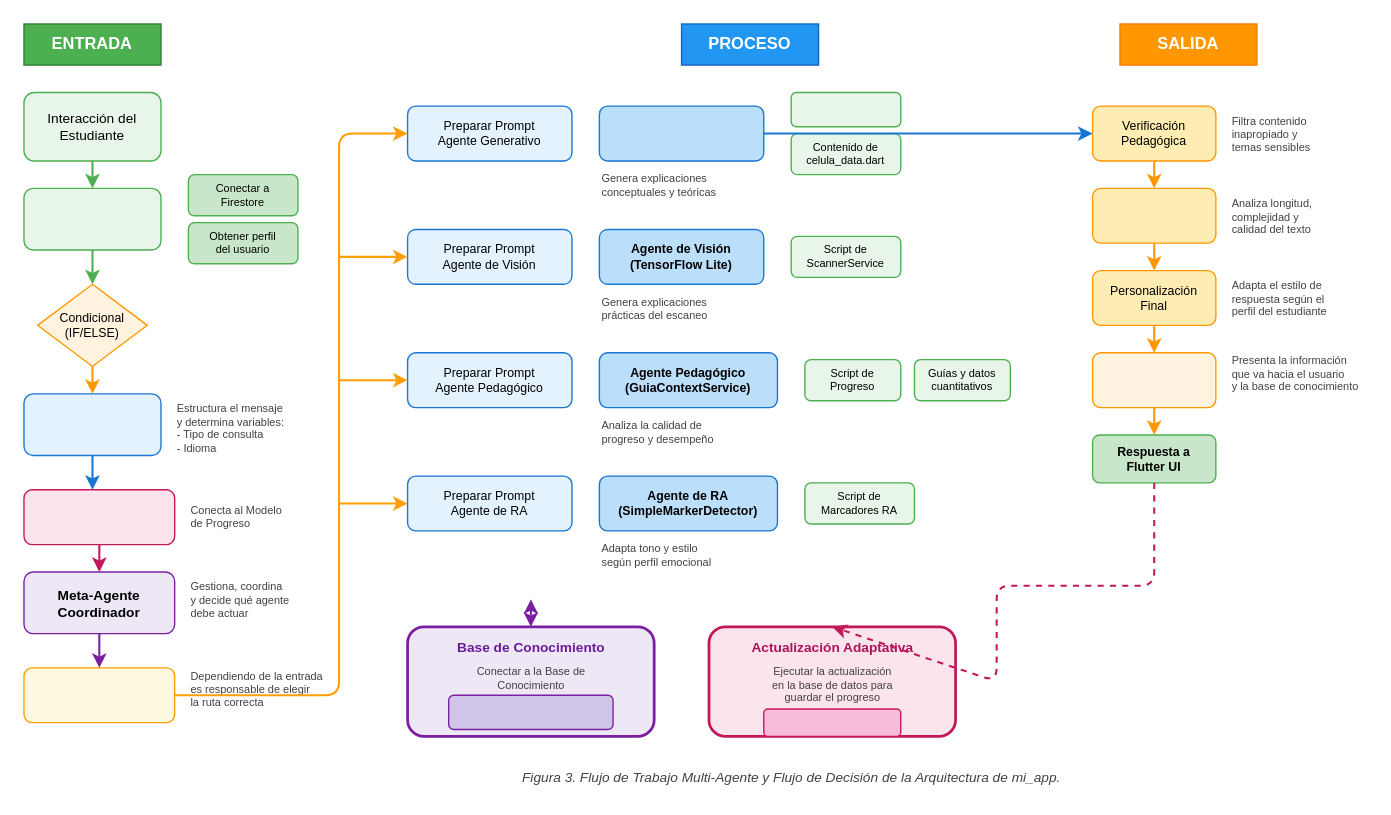
Image size: 1391x815. Some labels were removed from this diagram. Each missing label, with the centre of its shape:
Agente de Recepción: (x=92, y=424)
Agente Generativo (Google Gen AI): (x=681, y=133)
Aprendizaje Adaptativo Consultar Política: (x=99, y=516)
Calculador de Métricas: (x=1153, y=215)
celula_data.dart assets/CELULA/: (x=530, y=712)
Enrutador Inteligente: (x=99, y=695)
Firebase Firestore: (x=831, y=722)
Obtener Contexto de Firebase: (x=92, y=218)
Recursos: (x=845, y=109)
Respuesta Final: (x=1153, y=379)
